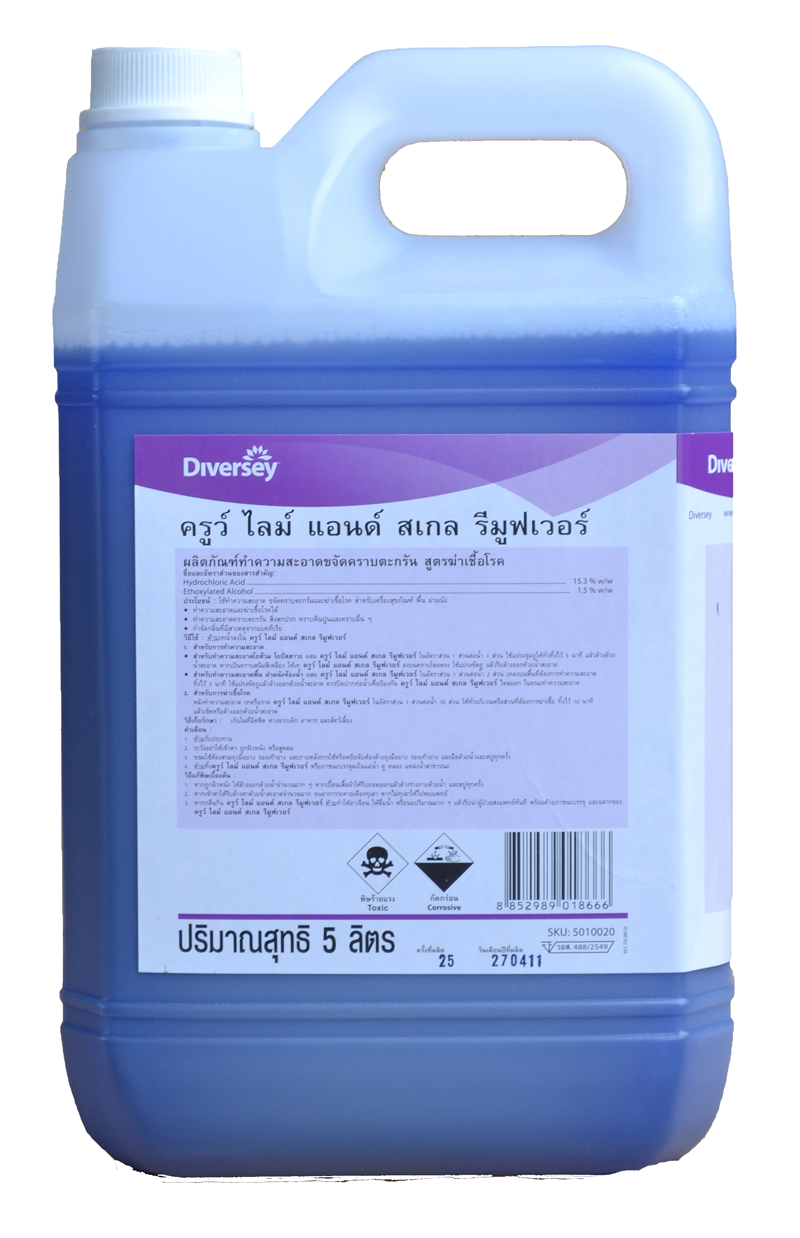Cleaning_solution: (46, 28, 740, 1186)
